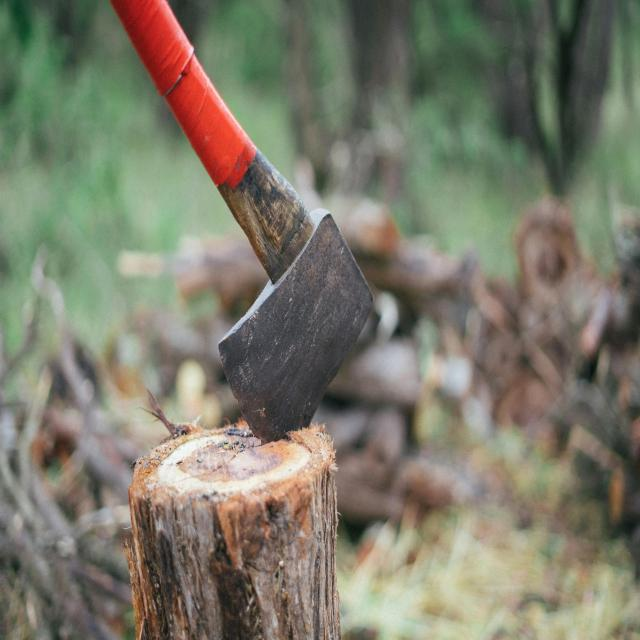Axe: (112, 0, 372, 441)
